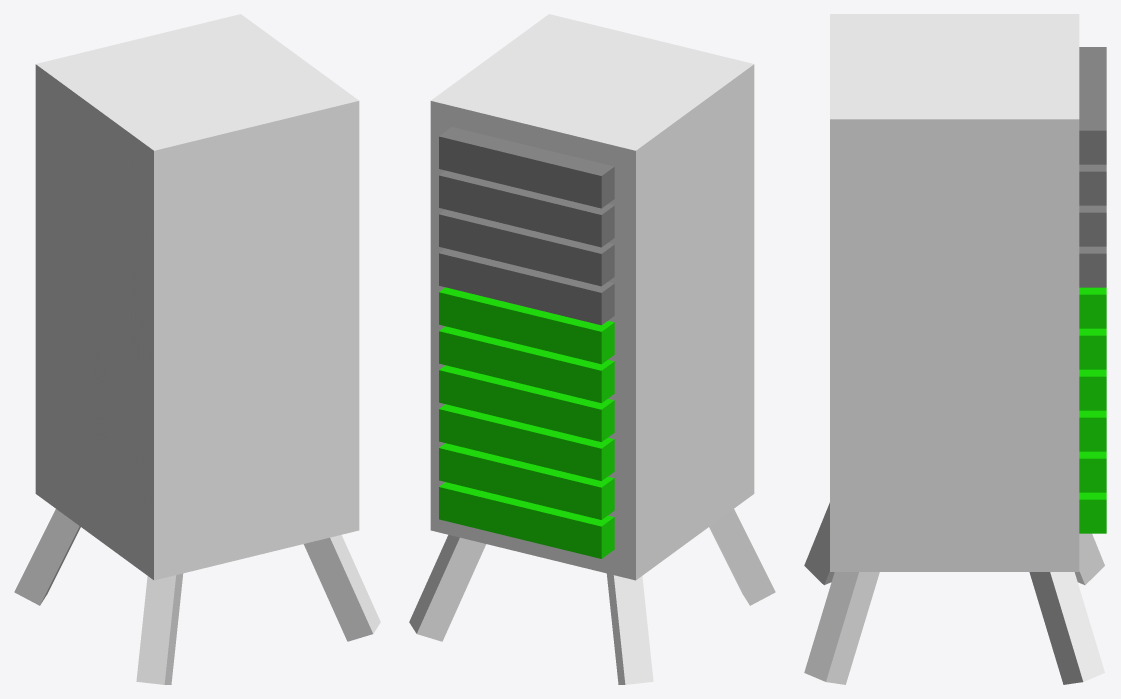
File: Battery.fbx
3 views of the same model, side by side, from view 1: azimuth 30°, elevation 25°; view 2: azimuth 150°, elevation 25°; view 3: azimuth 270°, elevation 25° (orthographic). The views are drawn at different scales.
Visible parts, largest first — view 1: Core, Legs; view 2: Core, Legs, Counter.009, Counter, Counter.001, Counter.004, Counter.005, Counter.006, Counter.002, Counter.003, Counter.007, Counter.008; view 3: Core, Legs, Counter.009, Counter, Counter.001, Counter.002, Counter.003, Counter.004, Counter.005, Counter.006, Counter.007, Counter.008.
Part boxes in pixels (x1,y1,x2,y2): Core: [35, 14, 359, 580]; Legs: [14, 509, 380, 684]; Core: [430, 14, 754, 580]; Legs: [409, 509, 775, 684]; Counter.009: [439, 127, 614, 208]; Counter: [439, 482, 614, 558]; Counter.001: [439, 443, 614, 519]; Counter.004: [439, 326, 614, 403]; Counter.005: [439, 287, 614, 364]; Counter.006: [439, 248, 614, 325]; Counter.002: [439, 404, 614, 480]; Counter.003: [439, 365, 614, 441]; Counter.007: [439, 209, 614, 286]; Counter.008: [439, 170, 614, 247]; Core: [830, 14, 1079, 571]; Legs: [804, 502, 1104, 684]; Counter.009: [1079, 47, 1106, 164]; Counter: [1079, 492, 1106, 533]; Counter.001: [1079, 451, 1106, 492]; Counter.002: [1079, 410, 1106, 451]; Counter.003: [1079, 369, 1106, 410]; Counter.004: [1079, 328, 1106, 369]; Counter.005: [1079, 287, 1106, 328]; Counter.006: [1079, 246, 1106, 287]; Counter.007: [1079, 205, 1106, 246]; Counter.008: [1079, 164, 1106, 205].
Bounding box in the file's own units: 119 × 121 × 249.
